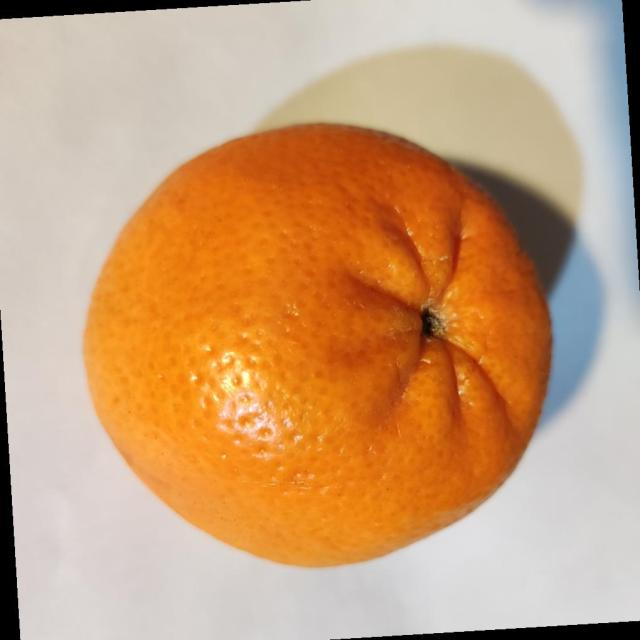fresh orange: (81, 120, 554, 568)
